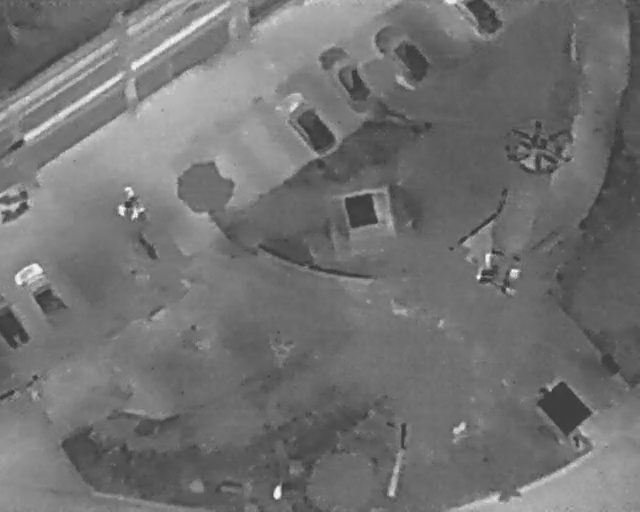Bicycle: (0, 198, 32, 224), (0, 188, 28, 204)
Car: (268, 83, 343, 164), (366, 12, 441, 93), (311, 37, 383, 116), (7, 255, 74, 331), (446, 0, 505, 37), (0, 293, 31, 352)
Person: (129, 205, 146, 222), (115, 201, 127, 218), (123, 184, 135, 199)
